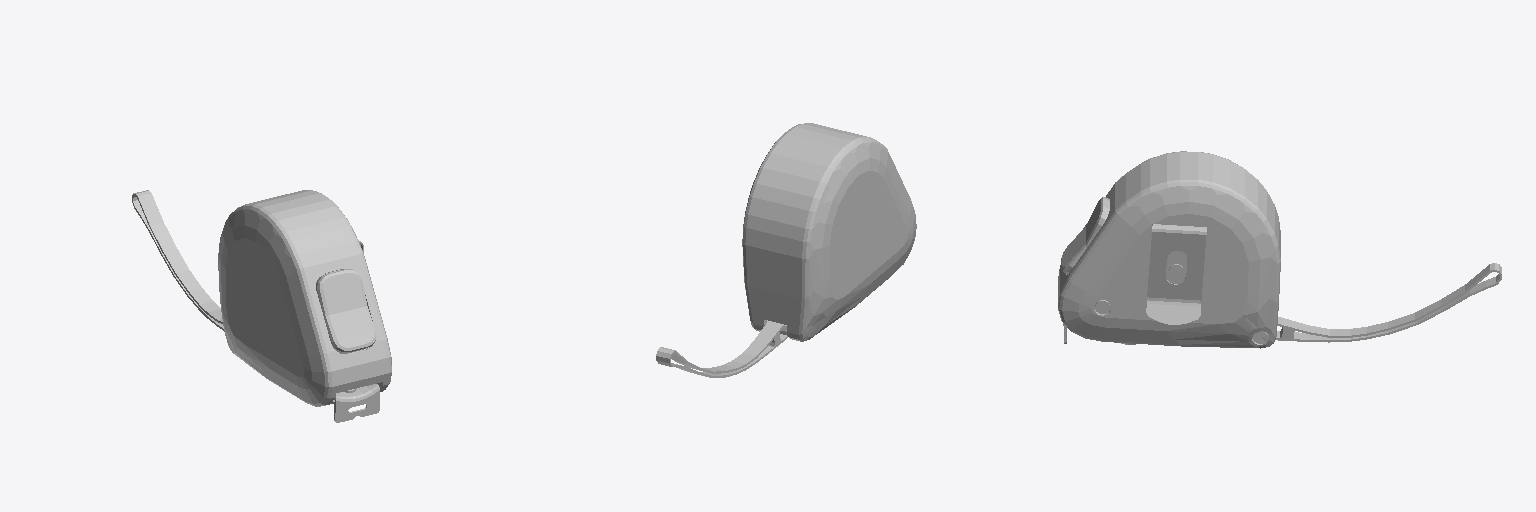
The model's file is measuring_tape_01.obj.
3 views of the same model, side by side, from view 1: azimuth 30°, elevation 25°; view 2: azimuth 150°, elevation 25°; view 3: azimuth 270°, elevation 25° (orthographic).
Parts seen in each view (by area): view 1: measuring_tape_01; view 2: measuring_tape_01; view 3: measuring_tape_01.
Part boxes in pixels (left/top/right/bottom): measuring_tape_01: left=132, top=190, right=391, bottom=422; measuring_tape_01: left=656, top=123, right=916, bottom=377; measuring_tape_01: left=1058, top=151, right=1501, bottom=348.
Bounding box in the file's own units: 0.4057 × 0.7341 × 1.69.